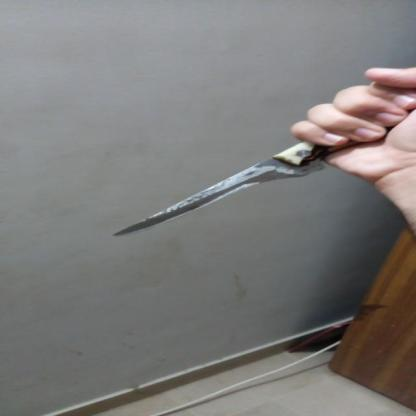Knife: (104, 122, 396, 241)
